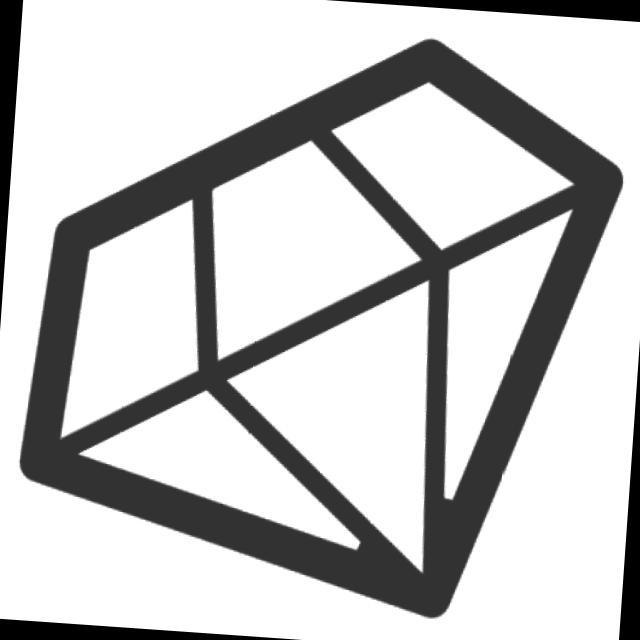diamond: (1, 1, 640, 634)
